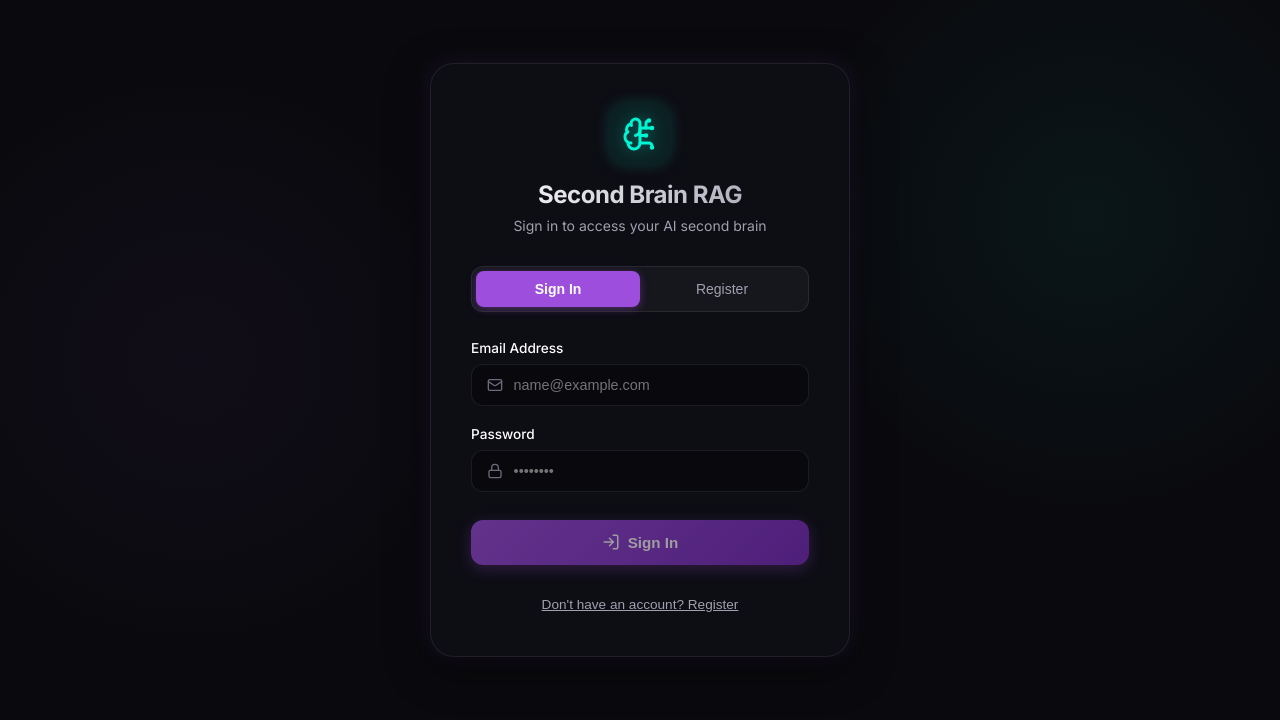
AuthScreen › displays error message on failed login
This screenshot has width=1280, height=720.
Type "wrong@example.com" into the field labelled "Email Address".
click(640, 384); type("wrong@example.com")  # box [471,364,809,406]
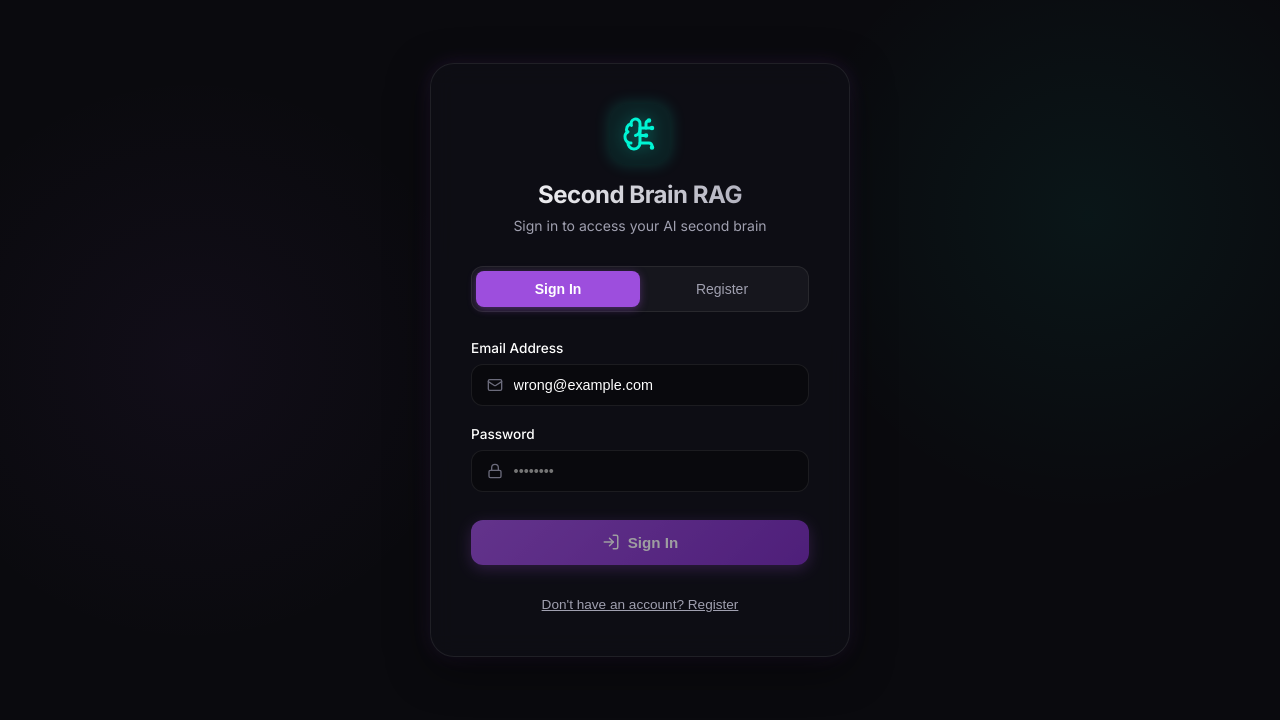
Type "wrongpass" into the password field labelled "Password".
click(640, 470); type("wrongpass")  # box [471,450,809,492]
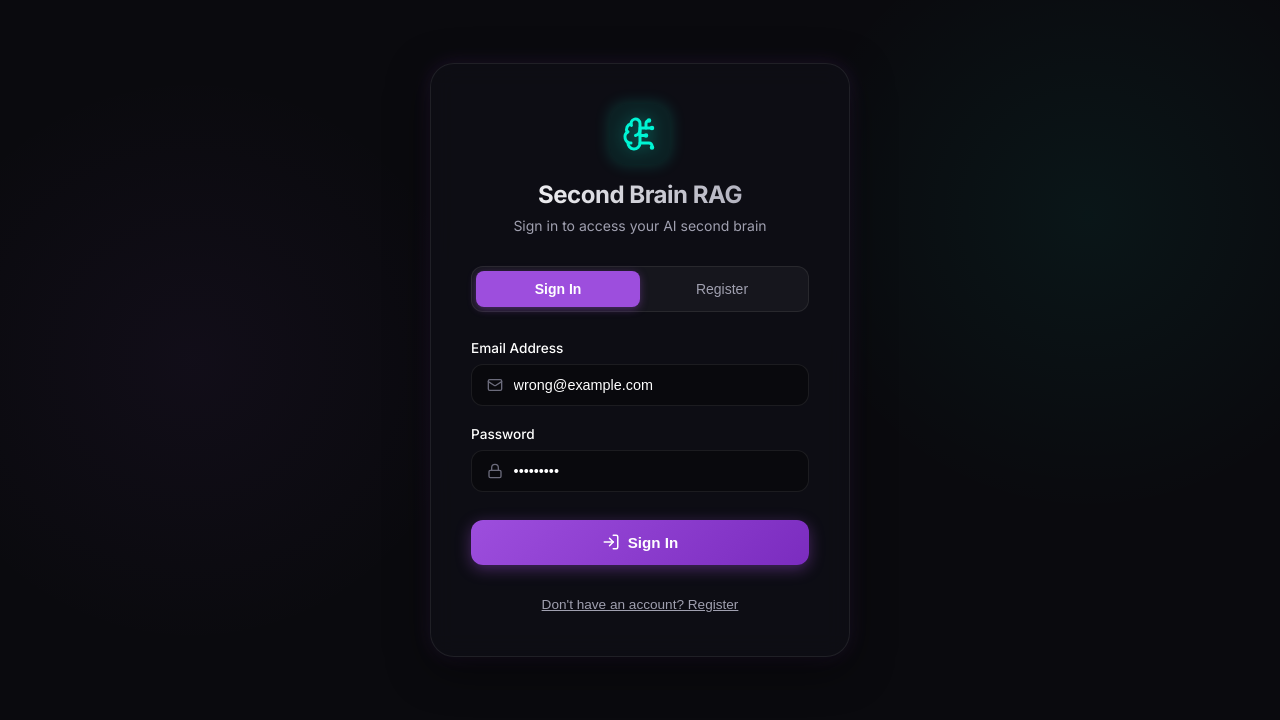
Click the button "Sign In".
click(640, 542)  # box [471,520,809,565]
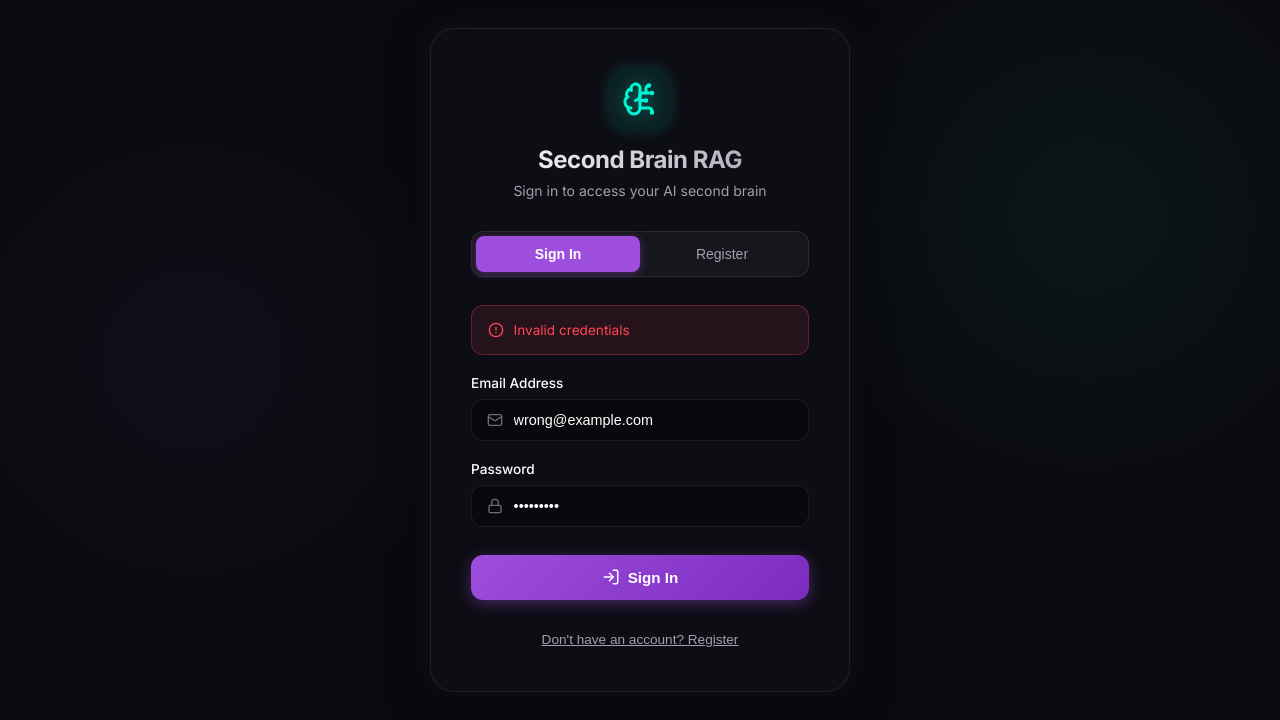
Expected: the message reads "Invalid credentials", [514,322,630,338]
